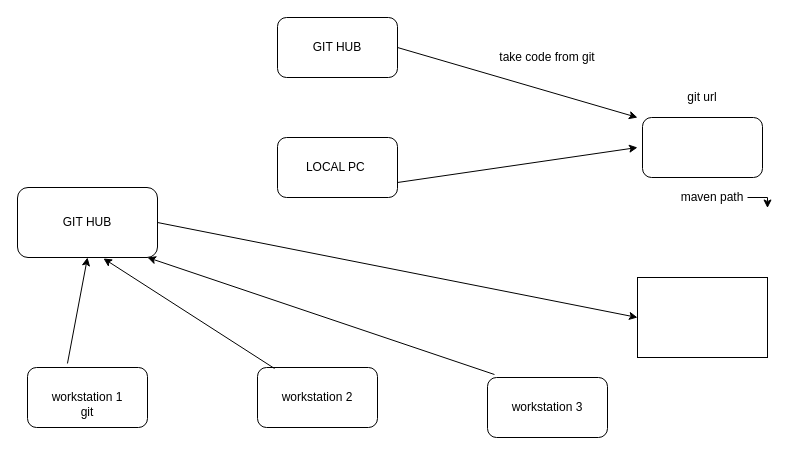
This 793x455 diagram has some shape labels left out. Each missing label, with the centre of its shape:
"git git clone maven install java install maven package" goes at [702,317].
"JENKINS SERVER" goes at [702,147].
